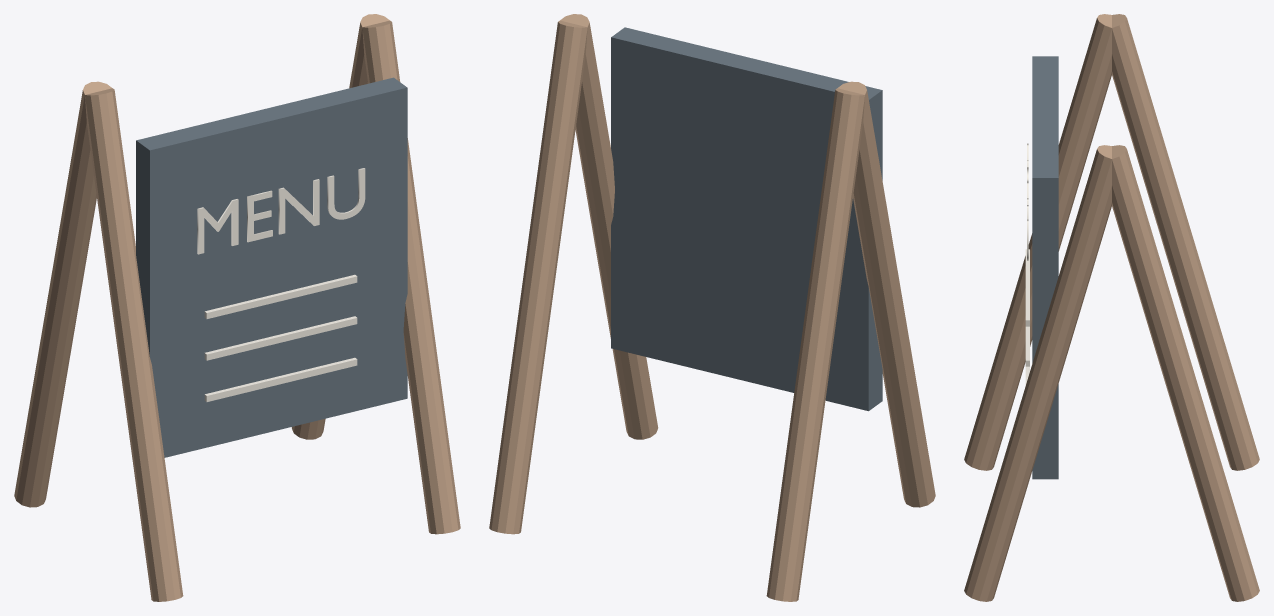
The model's file is menu_board.glb.
The picture shows the model from 3 angles, left to right: view 1: azimuth 30°, elevation 25°; view 2: azimuth 150°, elevation 25°; view 3: azimuth 270°, elevation 25°; orthographic projection. The views are drawn at different scales.
Visible parts, largest first — view 1: menu_board_004, menu_board_000, menu_board_002, menu_board_001, menu_board_005, menu_board_003, menu_board_008, menu_board_006, menu_board_007; view 2: menu_board_004, menu_board_003, menu_board_002, menu_board_000, menu_board_001; view 3: menu_board_002, menu_board_001, menu_board_003, menu_board_000, menu_board_004.
Part boxes in pixels (<box>): menu_board_004: <box>136,77,407,457</box>; menu_board_000: <box>85,88,183,601</box>; menu_board_002: <box>14,81,112,507</box>; menu_board_001: <box>362,20,460,534</box>; menu_board_005: <box>197,168,365,254</box>; menu_board_003: <box>291,14,389,439</box>; menu_board_008: <box>204,274,357,318</box>; menu_board_006: <box>204,357,357,401</box>; menu_board_007: <box>204,316,357,360</box>; menu_board_004: <box>611,27,882,411</box>; menu_board_003: <box>489,20,587,534</box>; menu_board_002: <box>766,88,864,601</box>; menu_board_000: <box>837,81,935,507</box>; menu_board_001: <box>560,14,658,439</box>; menu_board_002: <box>1112,14,1259,470</box>; menu_board_001: <box>964,145,1111,601</box>; menu_board_003: <box>1112,145,1259,601</box>; menu_board_000: <box>964,14,1111,470</box>; menu_board_004: <box>1032,56,1058,479</box>.
Size of the model in its own units: 0.77 by 1.12 by 0.6675.
